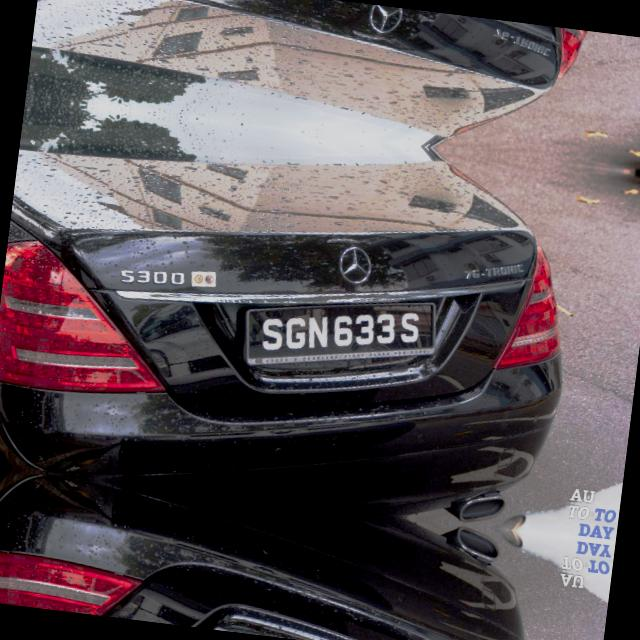military: (238, 277, 441, 390)
